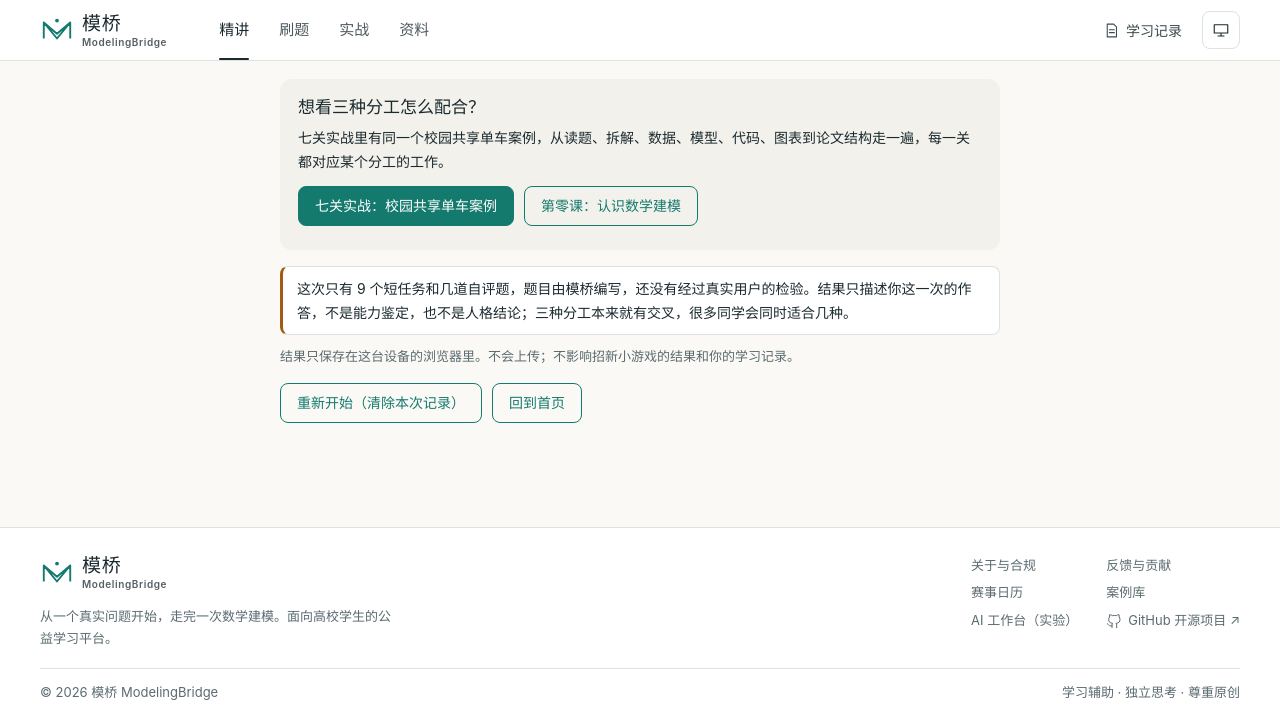
Test case: /learn/team-roles › shows a finished result directly on return, and restarting clears only its own record
The image size is (1280, 720).
(page scrolled)
Click the button "重新开始（清除本次记录）" at (381, 403), box [280,383,482,423]
(page scrolled)
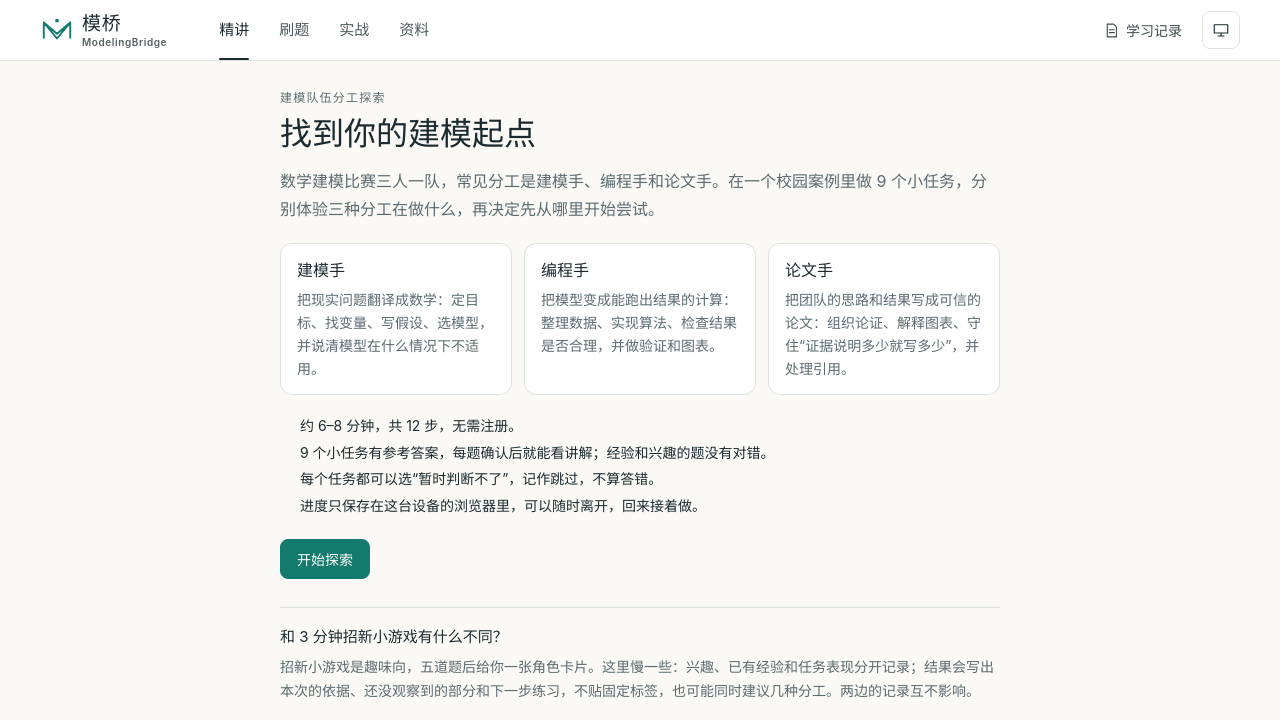
Check: the button "开始探索" is shown, box [280,539,370,579]
